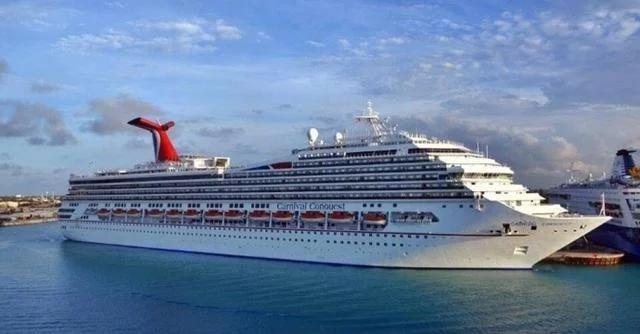youlun: (60, 96, 617, 271)
